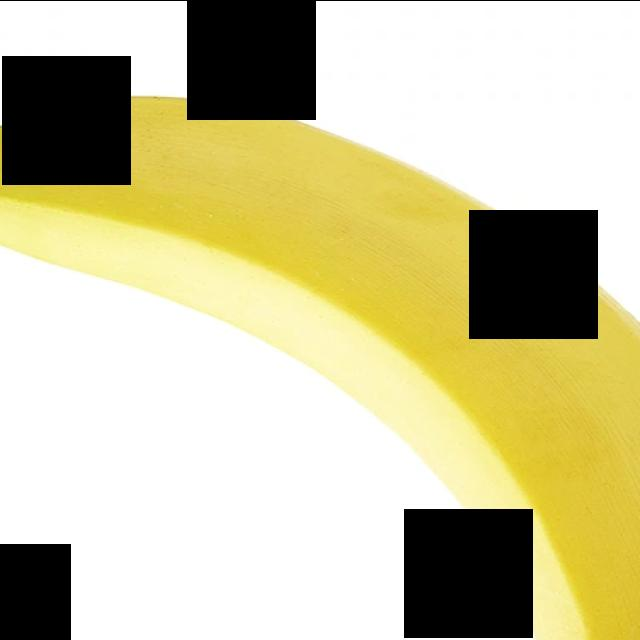banana: (0, 90, 640, 640)
